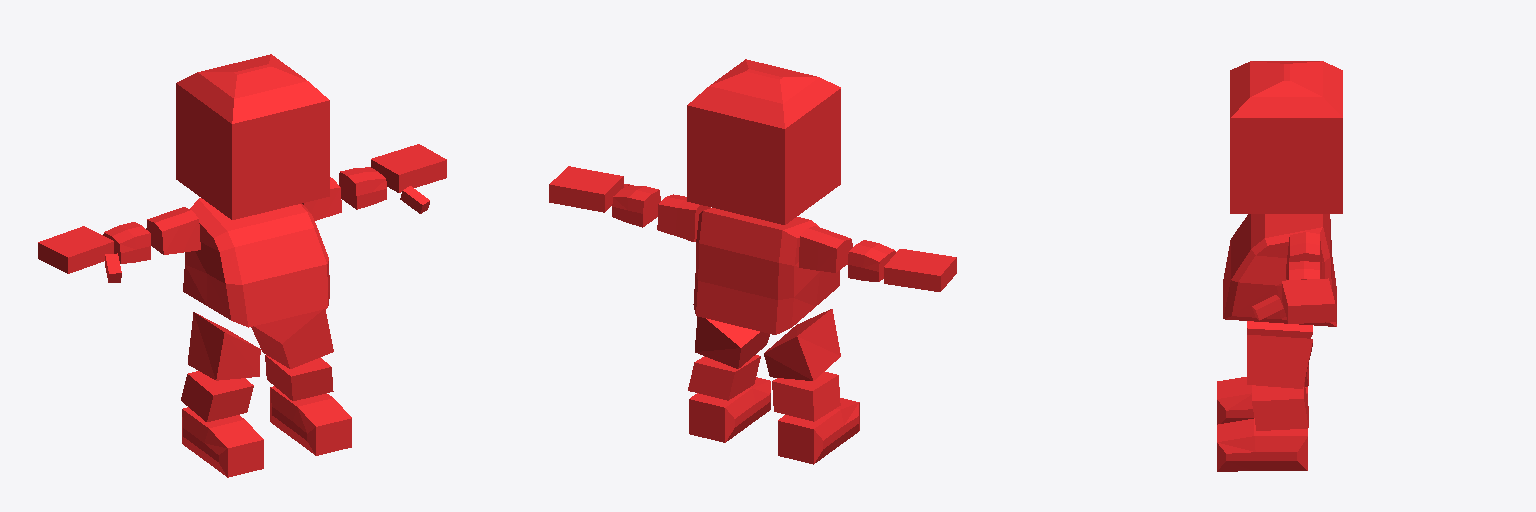
3 views of the same model, side by side, from view 1: azimuth 30°, elevation 25°; view 2: azimuth 150°, elevation 25°; view 3: azimuth 270°, elevation 25° (orthographic).
Visible parts, largest first — view 1: Platformer; view 2: Platformer; view 3: Platformer.
Boxes of the visible parts, x1,y1,x2,y2 form: Platformer: [38, 54, 446, 477]; Platformer: [549, 59, 956, 464]; Platformer: [1217, 61, 1342, 471].
Size of the model in its own units: 2.61 by 2.35 by 0.7313.
1 materials, 1 textured.